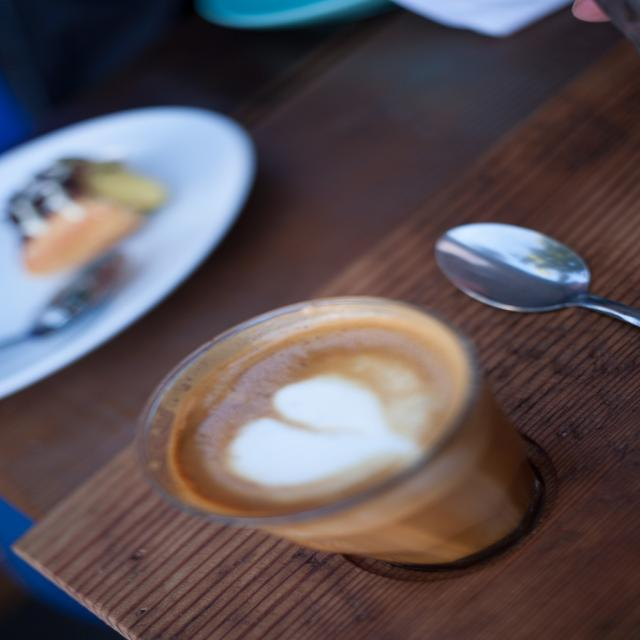Coffee: (144, 297, 538, 581)
